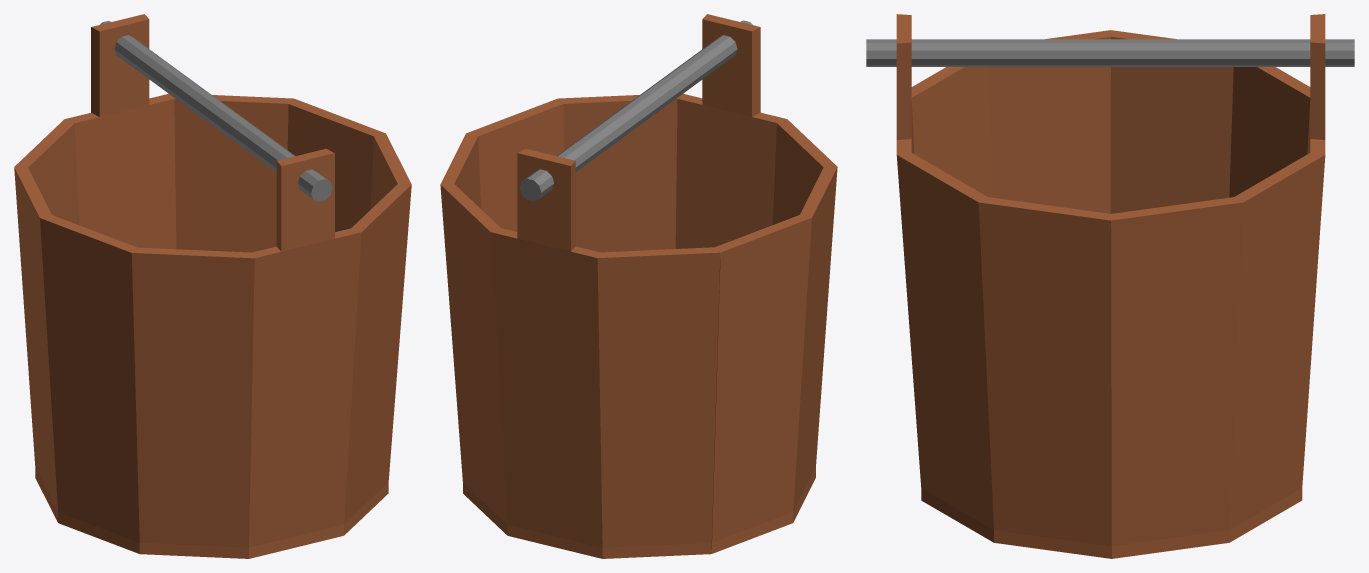
The model's file is bucket02.gltf.
3 renders of one model, left to right at view 1: azimuth 30°, elevation 25°; view 2: azimuth 150°, elevation 25°; view 3: azimuth 270°, elevation 25°, orthographic. The views are drawn at different scales.
Visible parts, largest first — view 1: Cylinder.001; view 2: Cylinder.001; view 3: Cylinder.001.
Boxes of the visible parts, x1,y1,x2,y2 form: Cylinder.001: (14, 14, 411, 558); Cylinder.001: (440, 14, 837, 558); Cylinder.001: (866, 14, 1354, 558).
Size of the model in its own units: 0.4302 by 0.4697 by 0.4659.
1 material, 1 textured.
